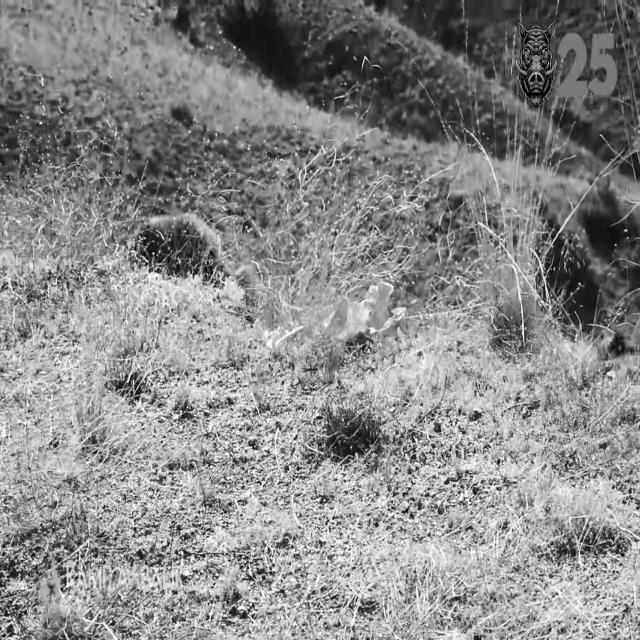boar: (134, 209, 224, 281), (515, 20, 556, 107)
